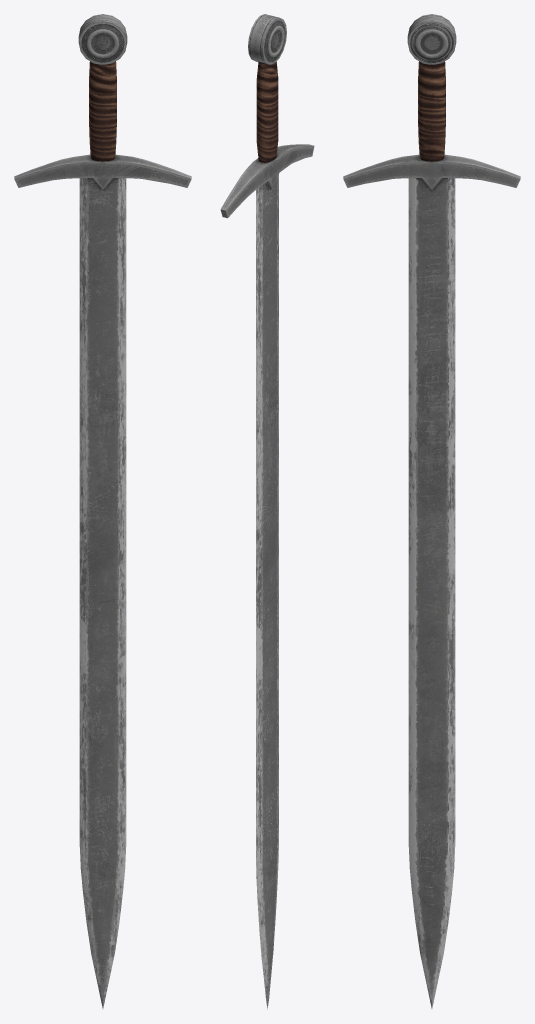
Rendered from Shortsword_01.fbx.
3 renders of one model, left to right at view 1: azimuth 90°, elevation 25°; view 2: azimuth 150°, elevation 25°; view 3: azimuth 270°, elevation 25°, orthographic.
Visible parts, largest first — view 1: Shortsword_01_LOD0; view 2: Shortsword_01_LOD0; view 3: Shortsword_01_LOD0.
Boxes of the visible parts, x1,y1,x2,y2 form: Shortsword_01_LOD0: (14,14,191,1008); Shortsword_01_LOD0: (220,14,314,1009); Shortsword_01_LOD0: (343,14,520,1008).
Size of what is drawn, in the model's own units: 1.98 by 99.63 by 16.14.
